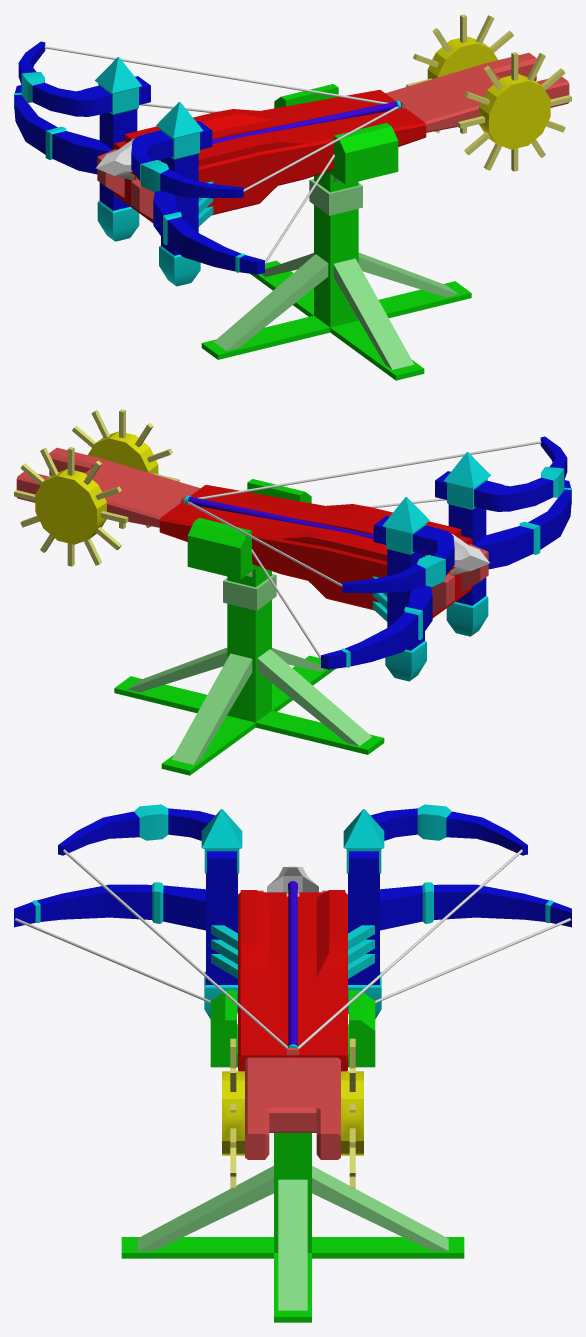
File: SM_ballista.fbx
3 renders of one model, top to bottom at view 1: azimuth 30°, elevation 25°; view 2: azimuth 150°, elevation 25°; view 3: azimuth 270°, elevation 25°, orthographic. The views are drawn at different scales.
Visible parts, largest first — view 1: ballista3_low, ballista4_low, ballista5_low, ballista8_low, ballista10_low, ballista11_low, ballista7_low, ballista2_low, ballista1_low; view 2: ballista3_low, ballista4_low, ballista8_low, ballista5_low, ballista11_low, ballista10_low, ballista7_low, ballista2_low, ballista1_low; view 3: ballista4_low, ballista3_low, ballista5_low, ballista8_low, ballista10_low, ballista11_low, ballista7_low, ballista2_low, ballista1_low, ballista6_low, ballista9_low.
Part boxes in pixels (box(x1,y1,x2,y2)): ballista3_low: box(201, 84, 471, 380); ballista4_low: box(97, 52, 569, 222); ballista5_low: box(131, 102, 264, 286); ballista8_low: box(14, 41, 150, 241); ballista10_low: box(457, 52, 571, 171); ballista11_low: box(406, 14, 513, 133); ballista7_low: box(44, 46, 398, 191); ballista2_low: box(212, 100, 401, 143); ballista1_low: box(96, 139, 134, 180); ballista3_low: box(114, 479, 384, 775); ballista4_low: box(16, 447, 488, 617); ballista8_low: box(321, 497, 454, 681); ballista5_low: box(435, 436, 571, 636); ballista11_low: box(14, 447, 128, 566); ballista10_low: box(72, 409, 179, 528); ballista7_low: box(187, 441, 541, 586); ballista2_low: box(184, 495, 373, 538); ballista1_low: box(451, 534, 489, 575); ballista4_low: box(238, 890, 347, 1159); ballista3_low: box(121, 990, 464, 1322); ballista5_low: box(14, 804, 242, 1018); ballista8_low: box(343, 804, 571, 1018); ballista10_low: box(222, 1038, 244, 1188); ballista11_low: box(341, 1038, 363, 1188); ballista7_low: box(63, 849, 522, 1049); ballista2_low: box(288, 881, 297, 1047); ballista1_low: box(267, 866, 318, 896); ballista6_low: box(15, 918, 237, 1014); ballista9_low: box(348, 918, 570, 1014).
Size of the model in its own units: 7.25 by 4.32 by 6.51.
